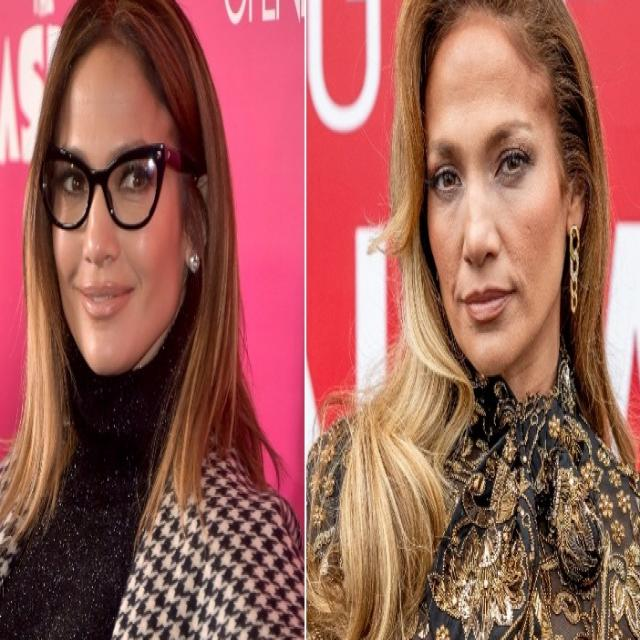Glasses: (38, 138, 193, 235)
